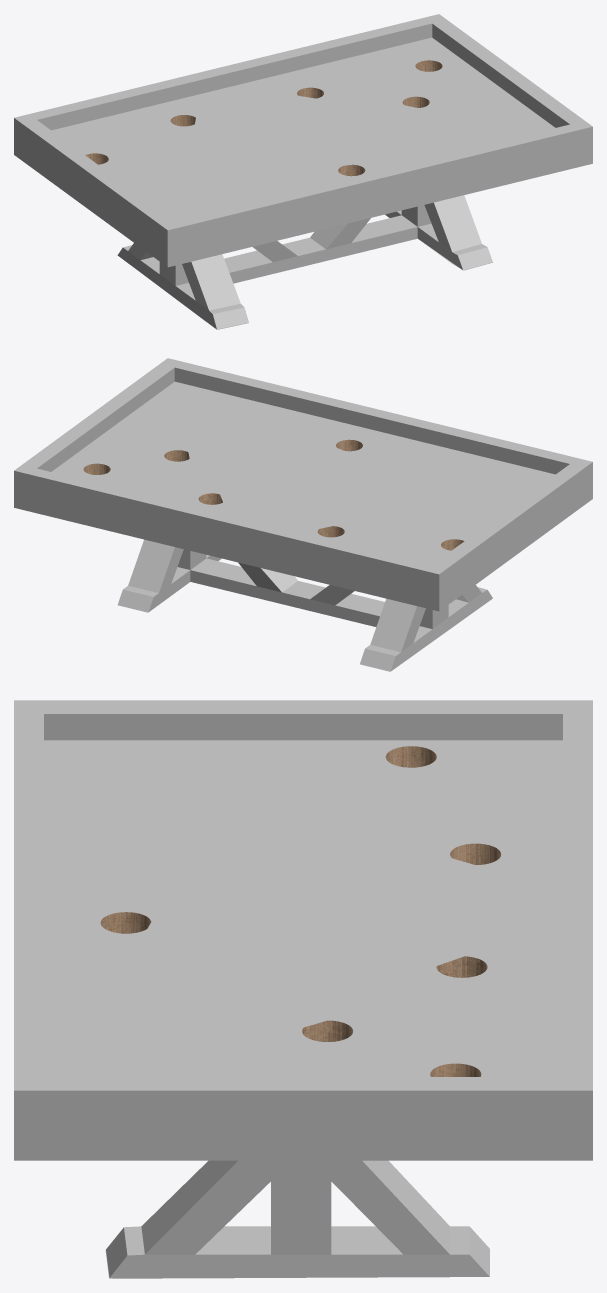
The model's file is pool2.fbx.
3 views of the same model, one above another, from view 1: azimuth 30°, elevation 25°; view 2: azimuth 150°, elevation 25°; view 3: azimuth 270°, elevation 25° (orthographic). The views are drawn at different scales.
Visible parts, largest first — view 1: Table, Tapis; view 2: Table, Tapis; view 3: Tapis, Table.
Part boxes in pixels (bbox=[...]): Table: bbox=[14, 14, 592, 329]; Tapis: bbox=[51, 37, 555, 220]; Table: bbox=[14, 358, 592, 671]; Tapis: bbox=[52, 381, 555, 564]; Tapis: bbox=[44, 740, 562, 1076]; Table: bbox=[14, 700, 592, 1278].
Size of the model in its own units: 983 by 301 by 616.
